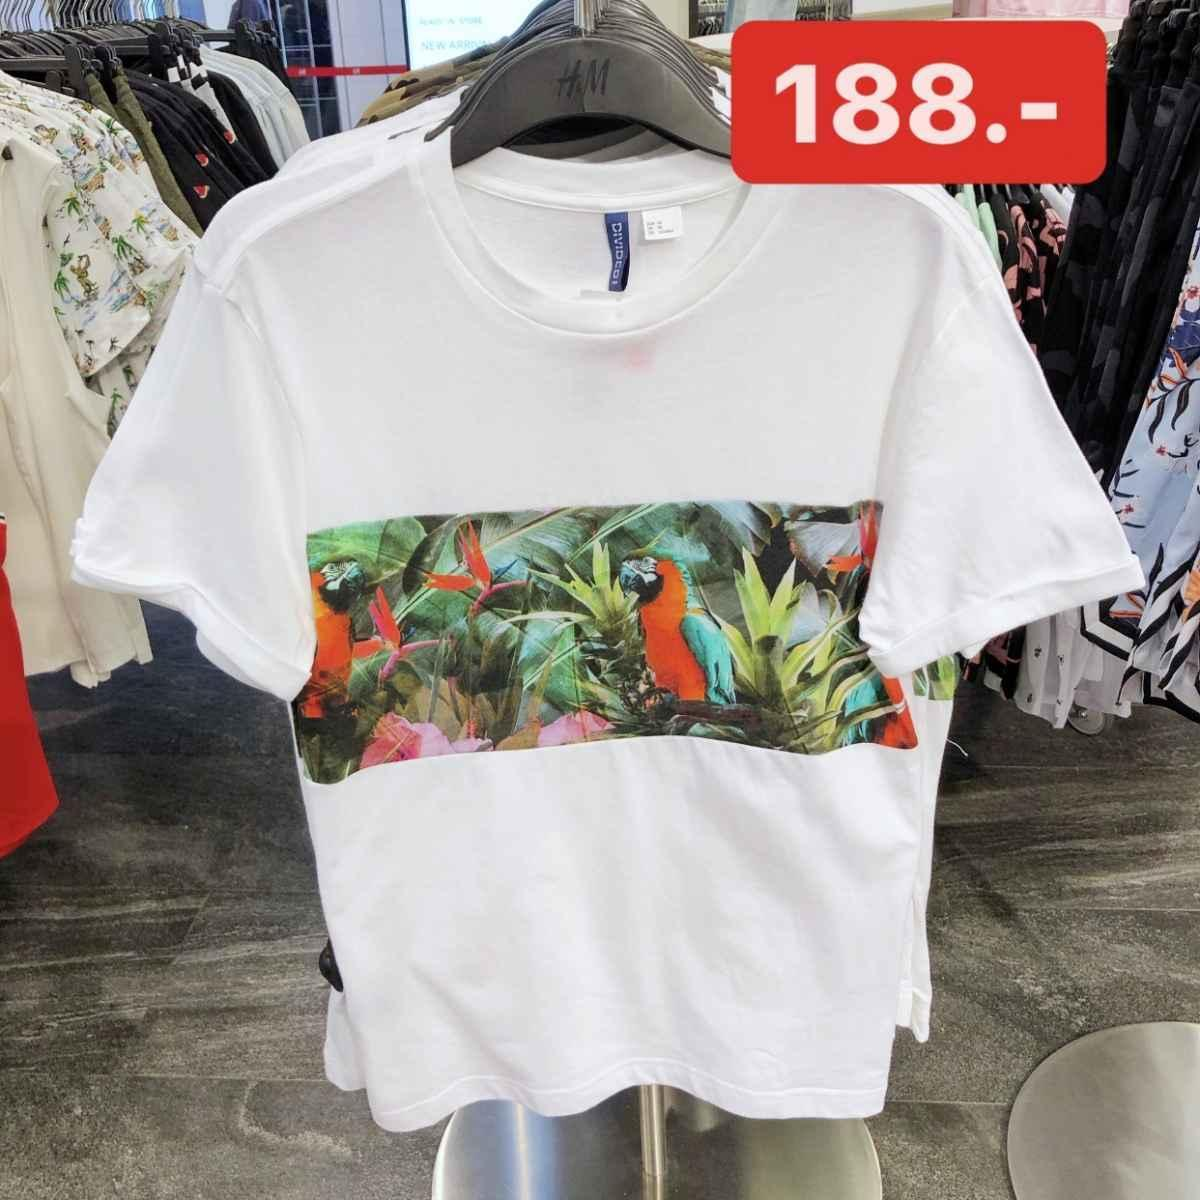Tshirt: (62, 127, 1146, 1123)
